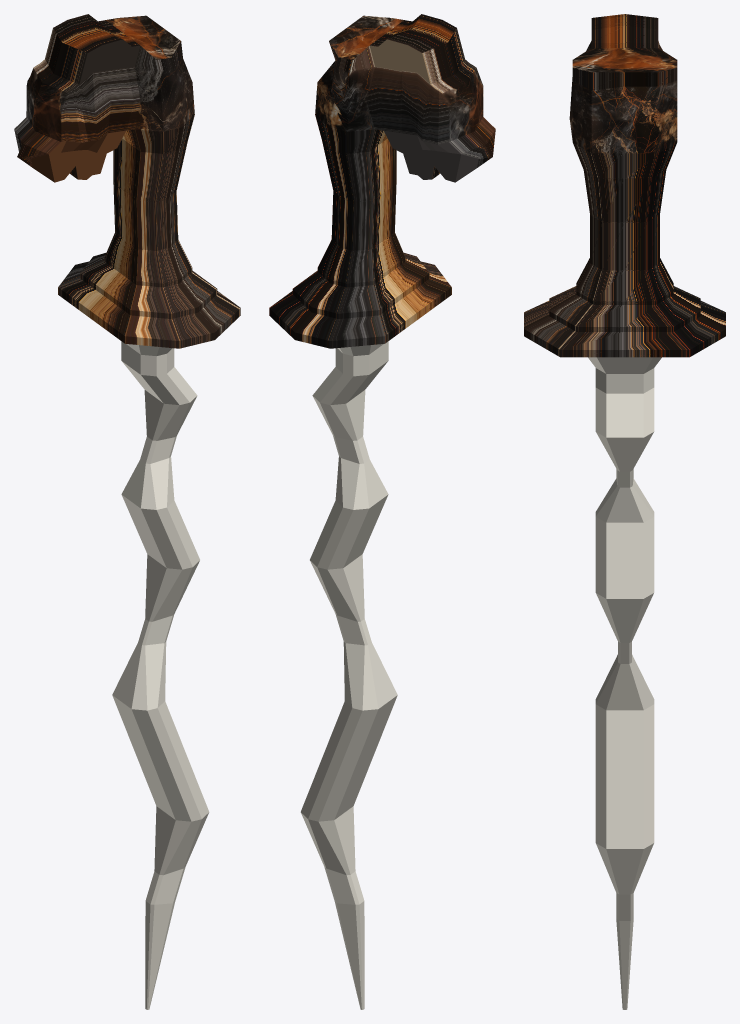
Rendered from Weapon Yudistira BAIK.fbx.
3 views of the same model, side by side, from view 1: azimuth 30°, elevation 25°; view 2: azimuth 150°, elevation 25°; view 3: azimuth 270°, elevation 25° (orthographic). The views are drawn at different scales.
Parts seen in each view (by area): view 1: Cube; view 2: Cube; view 3: Cube.
Part boxes in pixels (box(x1,y1,x2,y2)): Cube: box(14, 14, 240, 1009); Cube: box(269, 14, 495, 1009); Cube: box(524, 14, 725, 1009).
Size of the model in its own units: 87.2 by 434 by 82.72.
2 materials, 1 textured.
